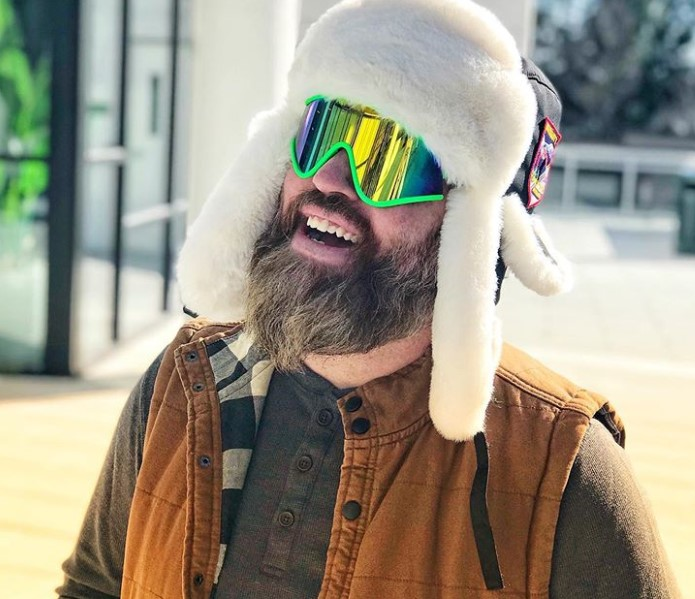face_no_mask: (280, 71, 465, 354)
